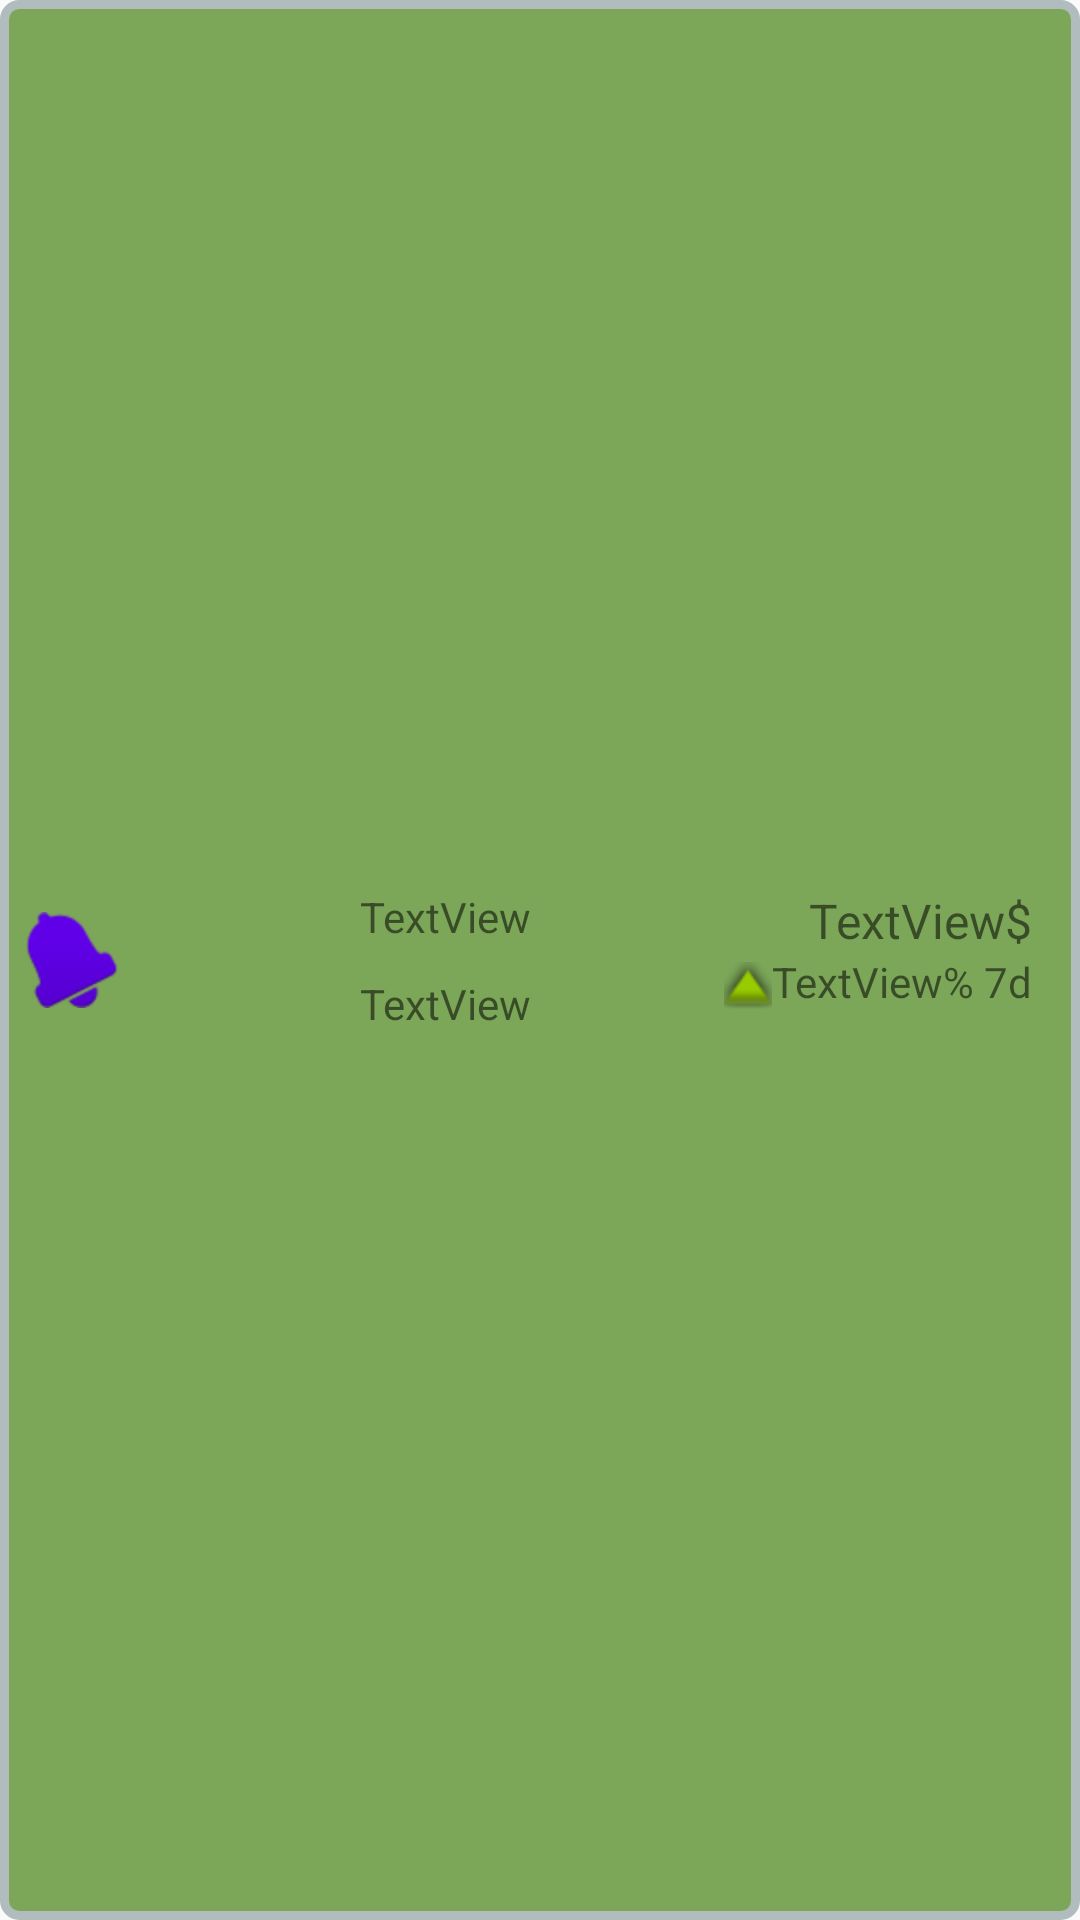

Where to tap for icons on this 1080*1920 app screen, as (x,y):
arrow up float: (747,986)
popup reminder: (72,960)
